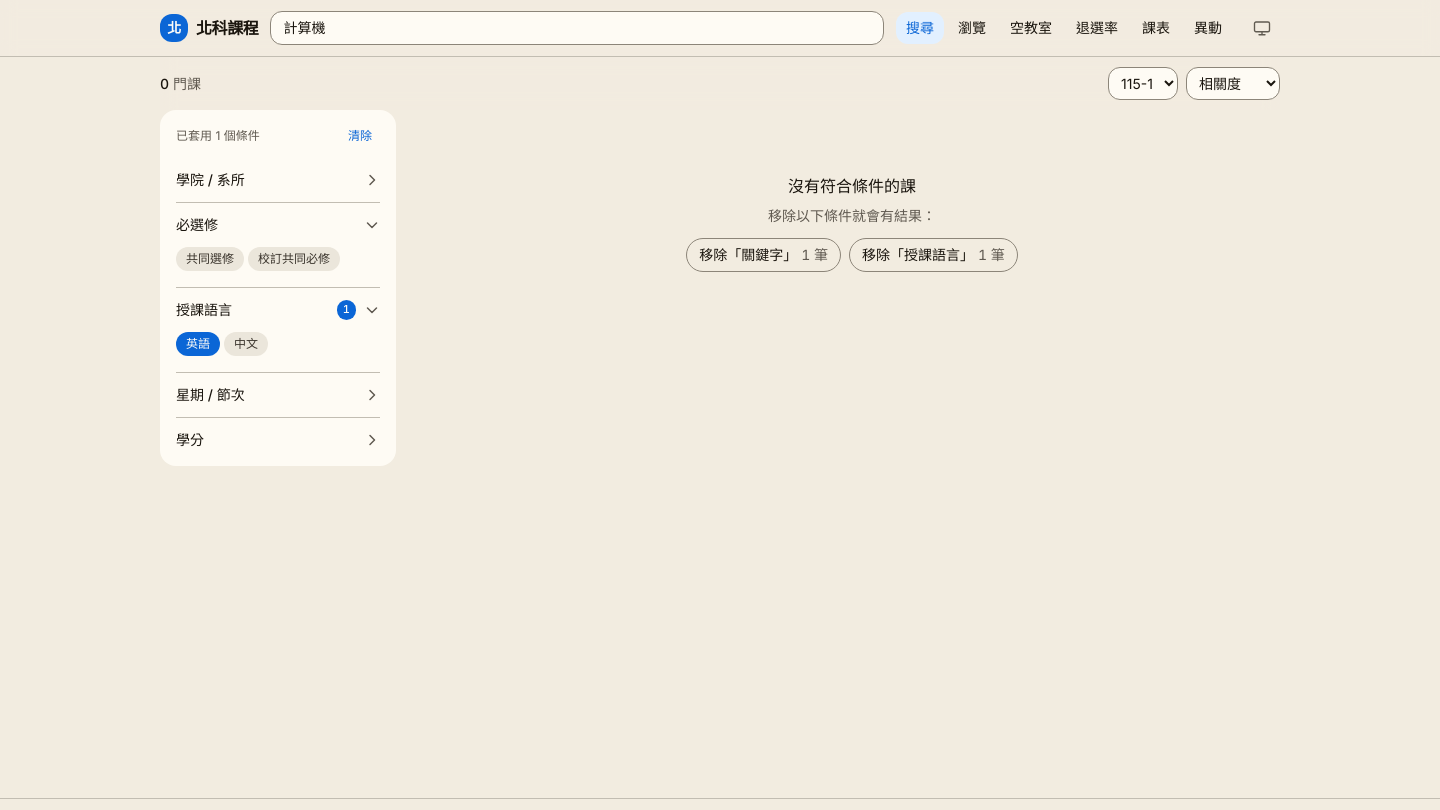
/search › 沒有結果時指出移除哪個條件會有結果
Expected: the text "門課" is shown, [169, 74, 201, 92]
Expected: the text "沒有符合條件的課" is shown, [788, 176, 916, 196]
Click the button "移除「關鍵字」1 筆" at [764, 255], box [686, 238, 841, 272]
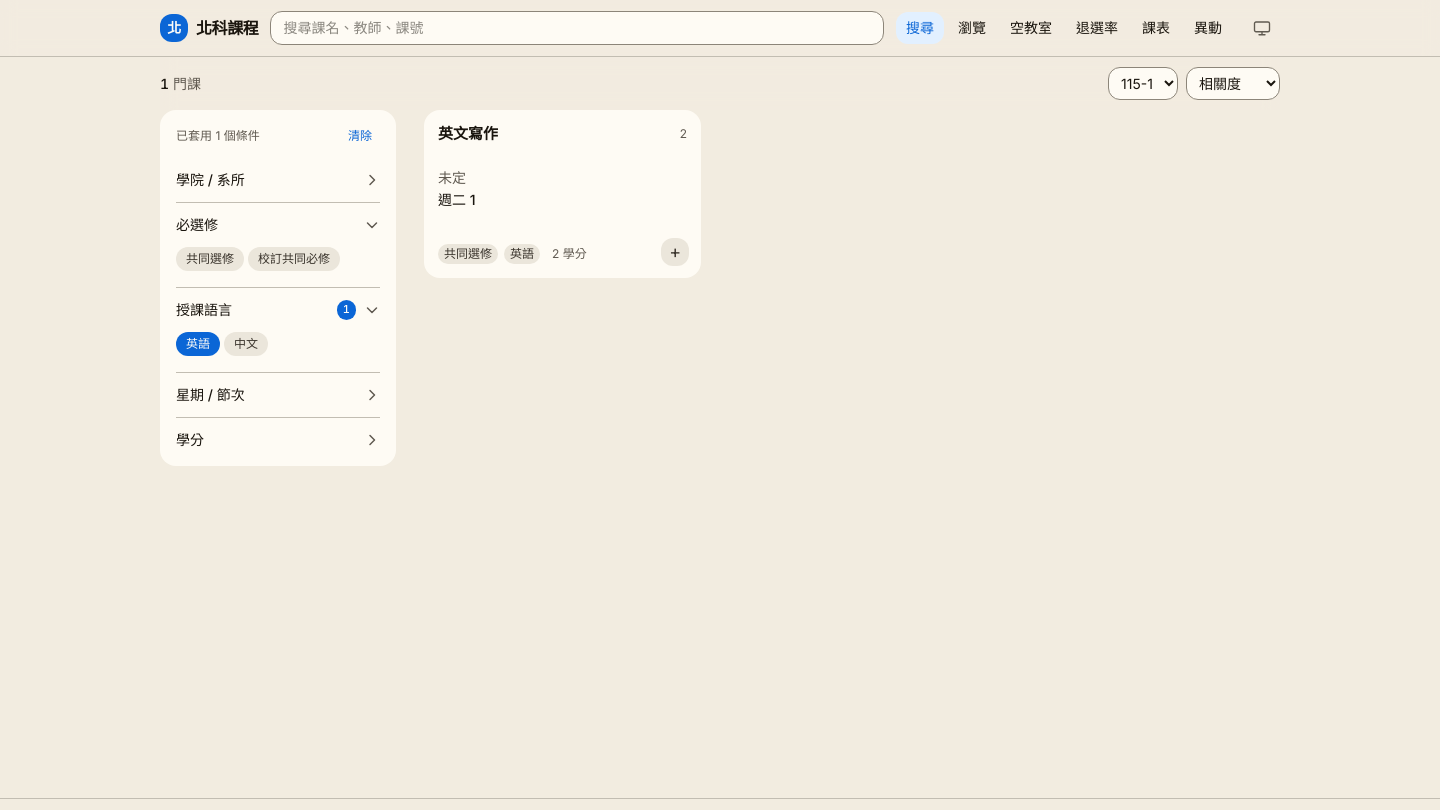
Expected: the text "沒有符合條件的課" is gone
